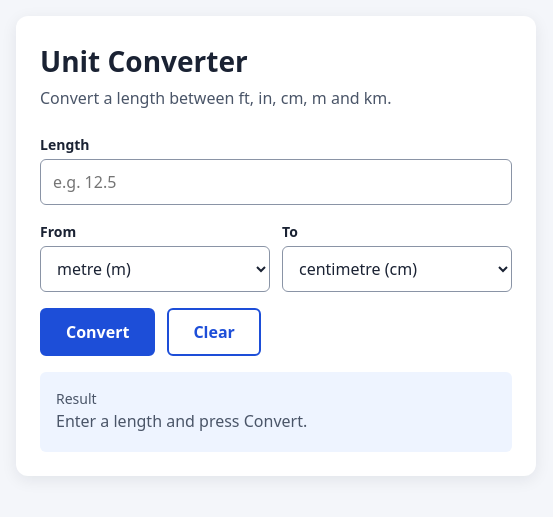
Test: S2: convert on click or Enter › S2: converts 1 ft to 30.48 cm on Convert click
Type "1" into the field labelled "Length". click: (276, 182)
box: [40,159,512,205]
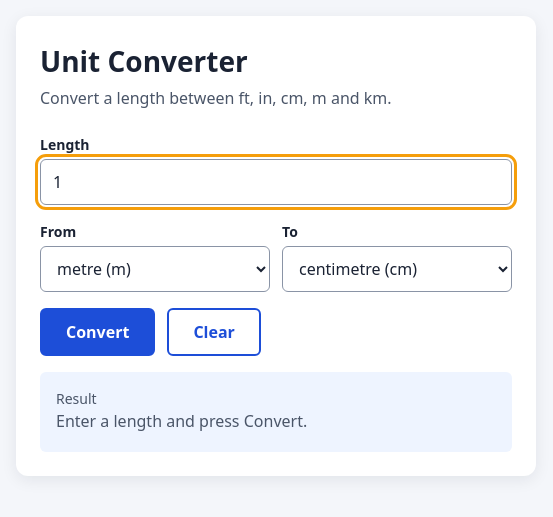
Select "foot (ft)" in the dropdown labelled "From". click: (155, 269)
box: [40,246,270,292]
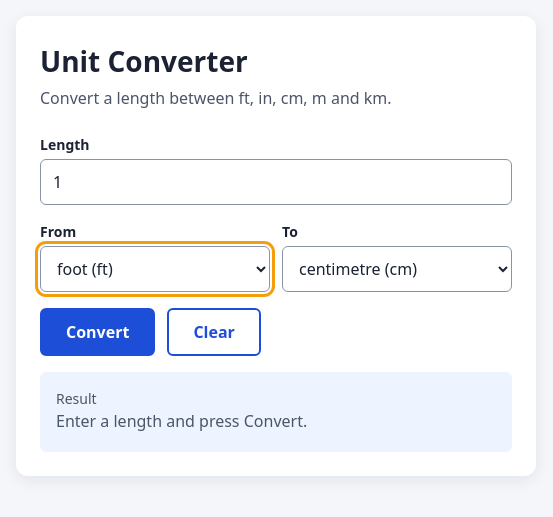
Select "centimetre (cm)" in the dropdown labelled "To". click: (397, 269)
box: [282,246,512,292]
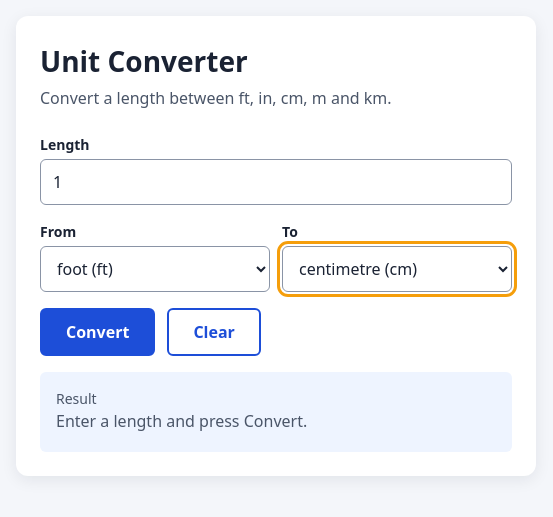
Click the button "Convert". click: (98, 332)
box: [40,308,155,356]
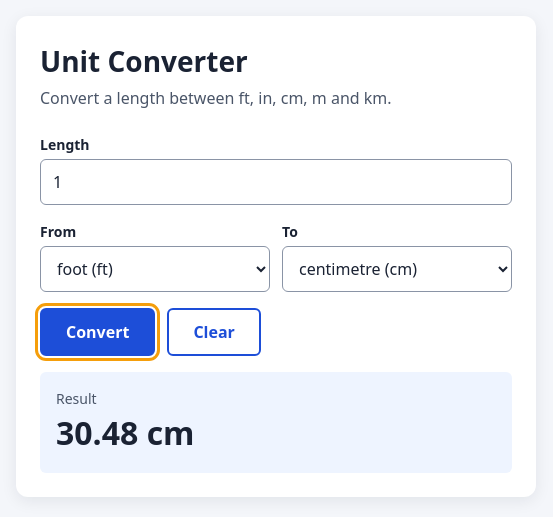
Check: the text with test id "result-value" reads "30.48 cm", box [56,411,194,454]
